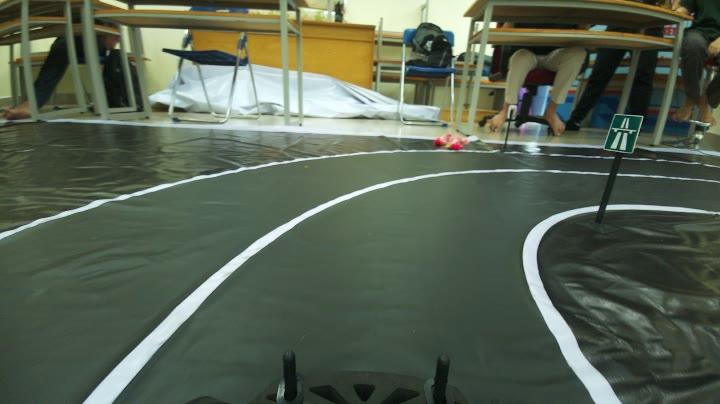highway_entry: (606, 105, 648, 156)
